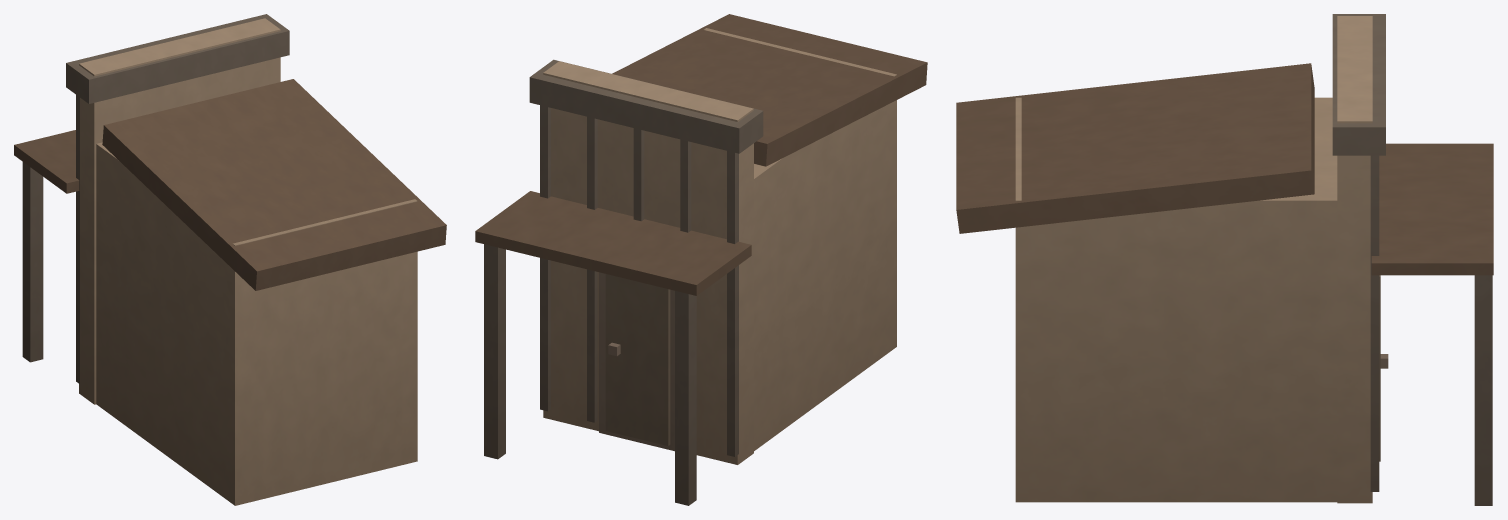
File: building_gate.glb
The picture shows the model from 3 angles, left to right: view 1: azimuth 30°, elevation 25°; view 2: azimuth 150°, elevation 25°; view 3: azimuth 270°, elevation 25°; orthographic projection. The views are drawn at different scales.
Parts seen in each view (by area): view 1: building_gate; view 2: building_gate; view 3: building_gate.
Part boxes in pixels (x1,y1,x2,y2): building_gate: (14, 14, 446, 505); building_gate: (475, 14, 927, 505); building_gate: (956, 14, 1493, 505).
Size of the model in its own units: 1.28 by 1.9 by 2.42.
1 material, 1 textured.
